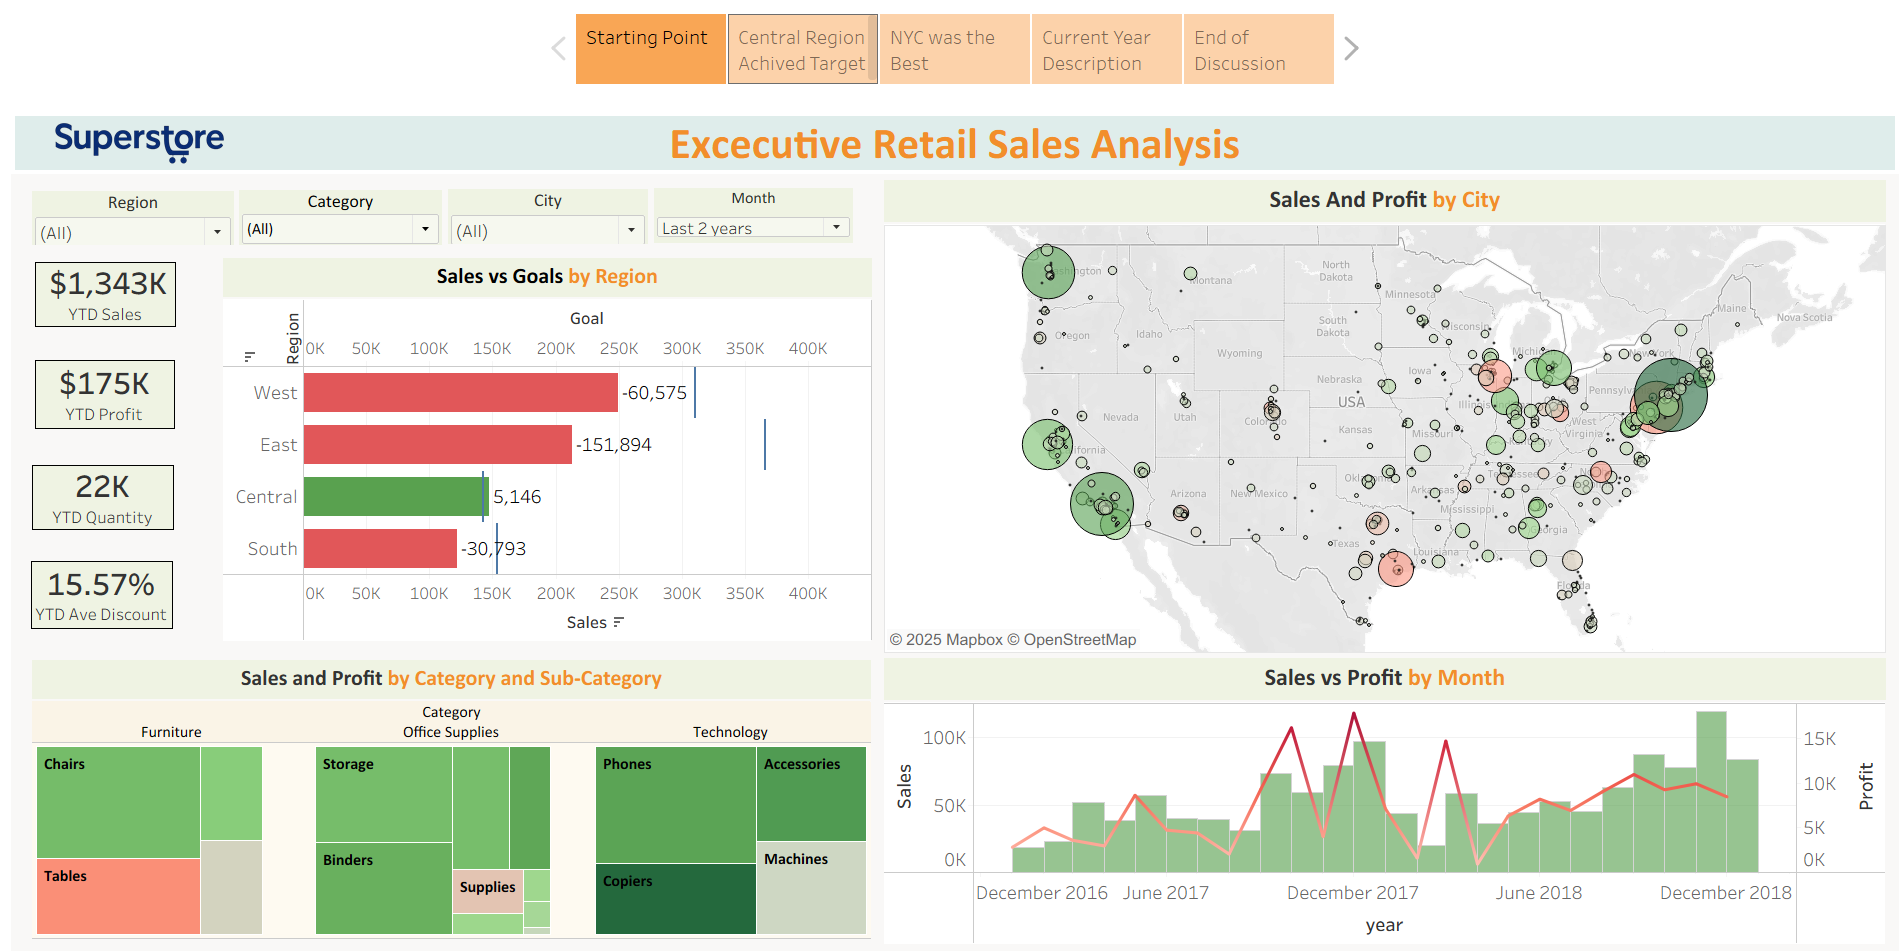

This screenshot's page, from the dashboard's own definition file:
{"tool":"tableau","page":{"name":"Dashboard 1","canvas":[1000,1000],"units":"permille","ordinal":0},"visuals":[{"type":"title","box":[4.2,8.2,991.7,63.6]},{"type":"image","param":"Image/Logo.png","box":[21.1,14.8,157,60.3]},{"type":"worksheet","title":"Sheet 3","mark":"Automatic","box":[462.9,88.3,526.2,551.7]},{"type":"filter","title":"Sheet 5","param":"[federated.0fsgl0g1t9uvza11zn0zj0y9v6vl].[tmn:Order Date (MDY):qk]","box":[342.1,97.9,104.7,64.3]},{"type":"filter","title":"Sheet 3","param":"[federated.0fsgl0g1t9uvza11zn0zj0y9v6vl].[none:City:nk]","box":[233.6,99.2,105.3,64.3]},{"type":"filter","title":"Sheet 4","param":"[federated.0fsgl0g1t9uvza11zn0zj0y9v6vl].[none:Category:nk]","box":[123.8,100.5,106.6,64.3]},{"type":"filter","title":"Sales vs Goals by Region","param":"[federated.0fsgl0g1t9uvza11zn0zj0y9v6vl].[none:Region:nk]","box":[15.3,101.9,105.9,63]},{"type":"worksheet","title":"Sales vs Goals by Region","mark":"Automatic","rows":["Region"],"cols":["Sales","Goal"],"box":[115.5,179.6,340.8,446.4]},{"type":"worksheet","title":"Sheet 6","mark":"Automatic","box":[16.6,183.7,90,88.5]},{"type":"worksheet","title":"Sheet 6 (2)","mark":"Automatic","box":[16.6,298.9,90,93.8]},{"type":"worksheet","title":"Sheet 6 (3)","mark":"Automatic","box":[15.3,420.9,91.3,88.5]},{"type":"worksheet","title":"Sheet 6 (4)","mark":"Automatic","box":[14.7,532.2,90.6,91.2]},{"type":"worksheet","title":"Sheet 5","mark":"Automatic","rows":["Sales","Profit"],"cols":["Order Date (MDY)"],"box":[462.9,645.8,526.2,333.3]},{"type":"worksheet","title":"Sheet 4","mark":"Automatic","cols":["Category"],"box":[15.1,648.1,440.6,327.5]}]}

Visuals, with their boxes on the dashboard's canvas, which has no fixed pixel size, in thousandths of its width and height (x1, y1, x2, y2). These are canvas units, not pixel positions in the 1902x951 screenshot, which may show the page scaled, cropped or inside an application window:
title: pyautogui.locateOnScreen(4, 8, 996, 72)
image: pyautogui.locateOnScreen(21, 15, 178, 75)
"Sheet 3" worksheet: pyautogui.locateOnScreen(463, 88, 989, 640)
"Sheet 5" filter: pyautogui.locateOnScreen(342, 98, 447, 162)
"Sheet 3" filter: pyautogui.locateOnScreen(234, 99, 339, 164)
"Sheet 4" filter: pyautogui.locateOnScreen(124, 100, 230, 165)
"Sales vs Goals by Region" filter: pyautogui.locateOnScreen(15, 102, 121, 165)
"Sales vs Goals by Region" worksheet: pyautogui.locateOnScreen(116, 180, 456, 626)
"Sheet 6" worksheet: pyautogui.locateOnScreen(17, 184, 107, 272)
"Sheet 6 (2)" worksheet: pyautogui.locateOnScreen(17, 299, 107, 393)
"Sheet 6 (3)" worksheet: pyautogui.locateOnScreen(15, 421, 107, 509)
"Sheet 6 (4)" worksheet: pyautogui.locateOnScreen(15, 532, 105, 623)
"Sheet 5" worksheet: pyautogui.locateOnScreen(463, 646, 989, 979)
"Sheet 4" worksheet: pyautogui.locateOnScreen(15, 648, 456, 976)
